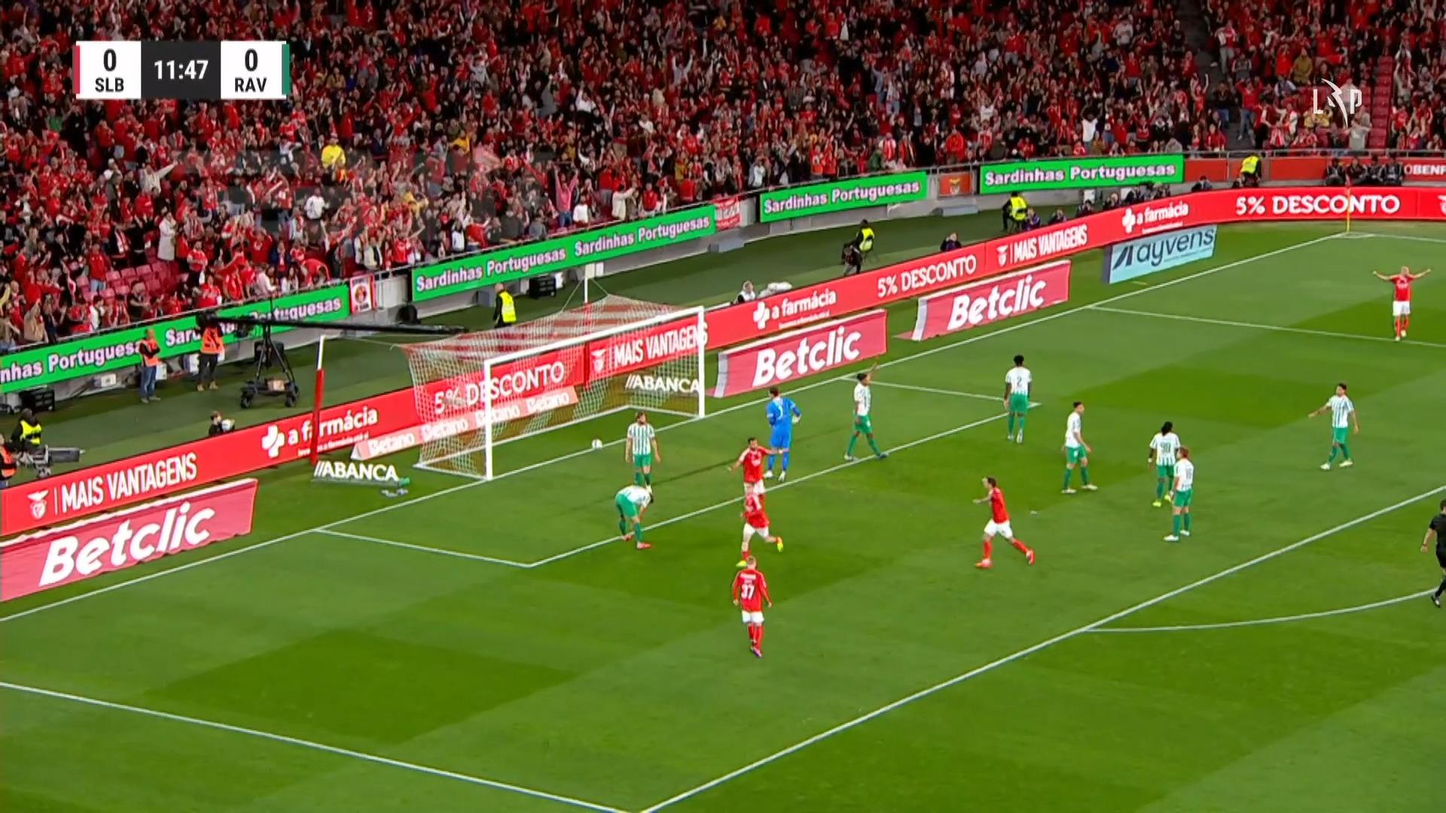ball: (590, 437, 602, 449)
goalkeeper: (762, 384, 801, 483)
player: (972, 475, 1036, 568), (1371, 263, 1432, 342), (1307, 382, 1359, 470), (726, 435, 783, 513), (730, 555, 773, 658), (843, 365, 888, 461), (735, 483, 783, 568), (1060, 400, 1098, 494), (624, 411, 661, 494), (1162, 446, 1194, 540), (1146, 420, 1180, 507), (613, 483, 654, 550), (1002, 353, 1032, 443)
referee: (1419, 498, 1445, 607)
